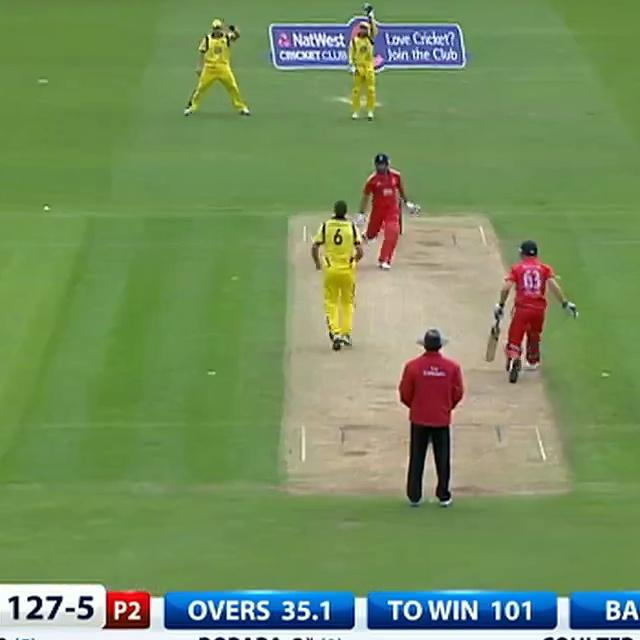umpire: (386, 321, 477, 512)
